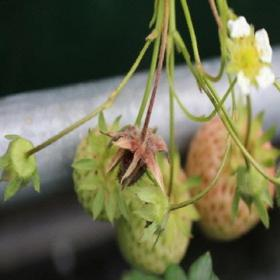Gray Mold: (99, 109, 170, 196)
